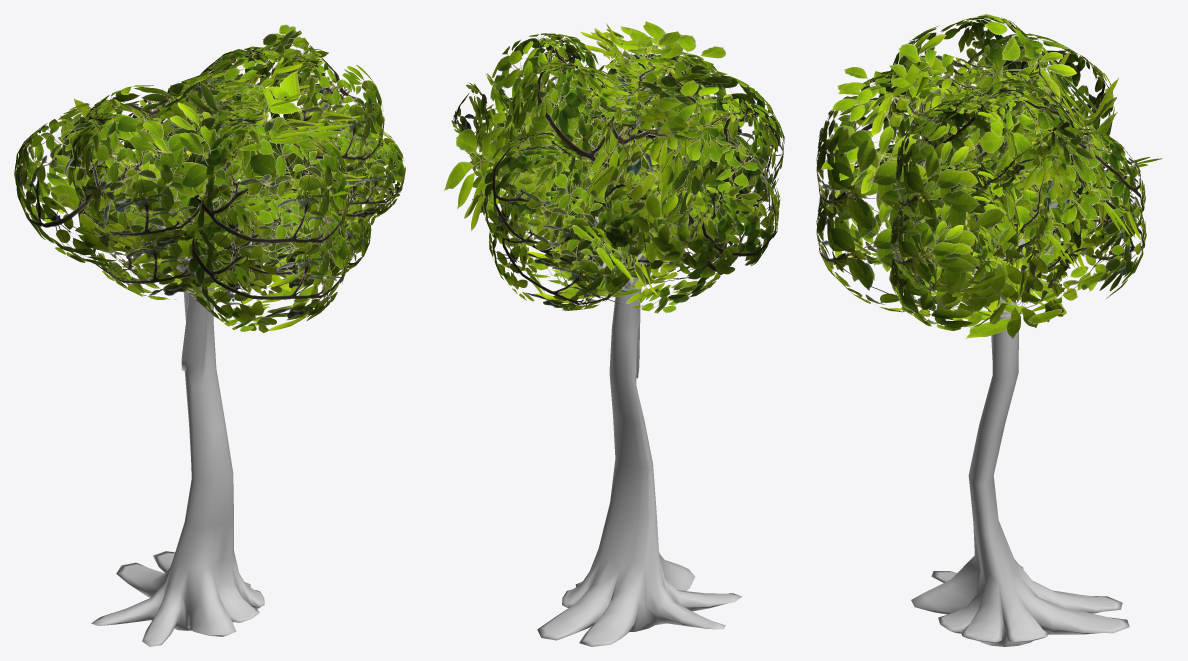
Rendered from tree.fbx.
The picture shows the model from 3 angles, left to right: view 1: azimuth 30°, elevation 25°; view 2: azimuth 150°, elevation 25°; view 3: azimuth 270°, elevation 25°; orthographic projection. The views are drawn at different scales.
Parts seen in each view (by area): view 1: pSphere3 (×2), TRUNK, pSphere2 (×2), pSphere7 (×2), pSphere1, pSphere4 (×2), pSphere5 (×2), pSphere6 (×2), pSphere9, pPlane21, pPlane5, pPlane6 (+12 smaller); view 2: TRUNK, pSphere8 (×2), pSphere7 (×2), pSphere2 (×2), pSphere4 (×2), pPlane14, pSphere1, pPlane18, pSphere3, pPlane21, pPlane13, pPlane24 (+12 smaller); view 3: TRUNK, pSphere3 (×2), pSphere8 (×2), pSphere4 (×2), pSphere1, pSphere5 (×2), pSphere2, pSphere7, pSphere9, pPlane16, pPlane22, pPlane21 (+16 smaller).
Boxes of the visible parts, box(x1,y1,x2,y2) form: pSphere3 (×2): box(182, 102, 350, 333); TRUNK: box(91, 216, 264, 646); pSphere2 (×2): box(69, 85, 240, 299); pSphere7 (×2): box(14, 99, 232, 282); pSphere1: box(266, 49, 384, 184); pSphere4 (×2): box(171, 46, 318, 284); pSphere5 (×2): box(272, 119, 405, 277); pSphere6 (×2): box(224, 195, 329, 295); pSphere9: box(271, 106, 383, 247); pPlane21: box(178, 63, 302, 113); pPlane5: box(47, 82, 248, 252); pPlane6: box(250, 24, 369, 167); TRUNK: box(537, 170, 741, 646); pSphere8 (×2): box(480, 127, 637, 311); pSphere7 (×2): box(587, 125, 780, 283); pSphere2 (×2): box(620, 69, 784, 301); pSphere4 (×2): box(504, 62, 645, 279); pPlane14: box(513, 114, 710, 261); pSphere1: box(489, 33, 603, 132); pPlane18: box(444, 128, 582, 231); pSphere3: box(596, 49, 741, 157); pPlane21: box(579, 23, 680, 117); pPlane13: box(627, 72, 734, 264); pPlane24: box(501, 254, 699, 313); TRUNK: box(911, 153, 1129, 646); pSphere3 (×2): box(816, 69, 987, 312); pSphere8 (×2): box(993, 127, 1146, 314); pSphere4 (×2): box(926, 80, 1083, 319); pSphere1: box(895, 99, 1019, 251); pSphere5 (×2): box(890, 184, 1014, 330); pSphere2: box(888, 14, 1045, 170); pSphere7: box(946, 33, 1114, 162); pSphere9: box(896, 160, 1019, 311); pPlane16: box(974, 133, 1093, 296); pPlane22: box(989, 216, 1120, 338); pPlane21: box(892, 44, 1044, 99).
Bounding box in the file's own units: 10.59 × 16.64 × 9.24.
